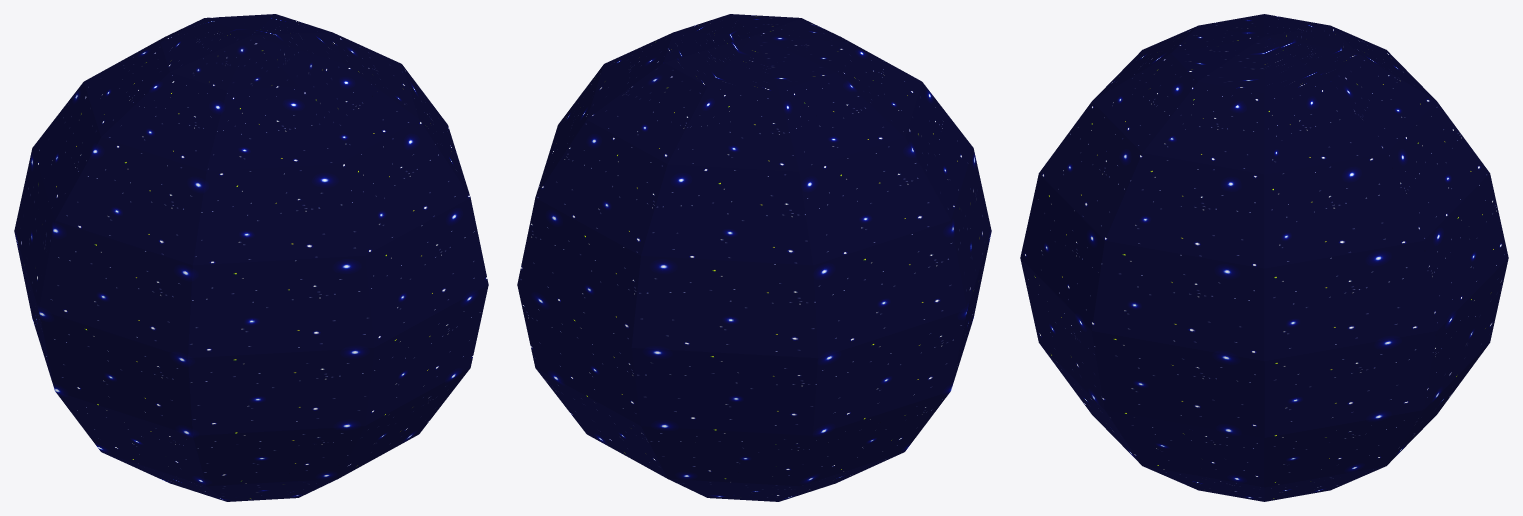
File: test1_course.glb
3 views of the same model, side by side, from view 1: azimuth 30°, elevation 25°; view 2: azimuth 150°, elevation 25°; view 3: azimuth 270°, elevation 25° (orthographic).
Parts seen in each view (by area): view 1: test1_course; view 2: test1_course; view 3: test1_course.
Part boxes in pixels (<box>): test1_course: <box>14,14,488,501</box>; test1_course: <box>517,14,991,501</box>; test1_course: <box>1020,14,1508,501</box>.
Size of the model in its own units: 643 by 643 by 643.
Materials: 4 (4 with a texture image).
